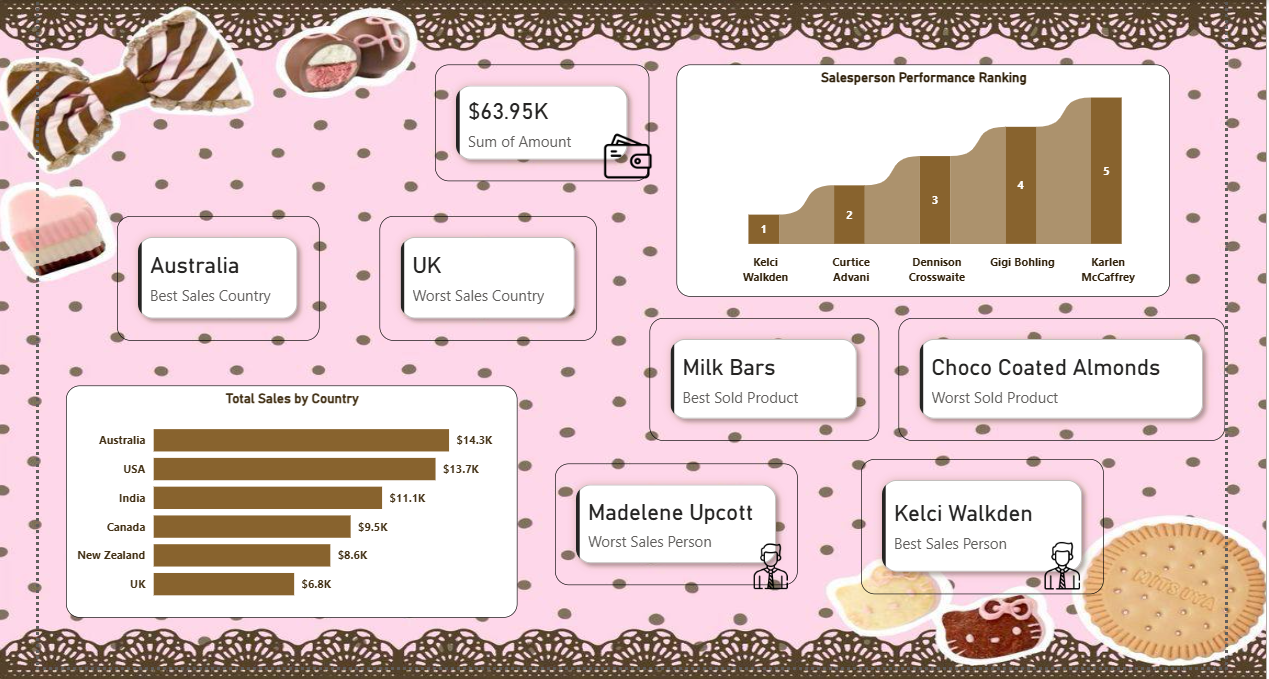

The dashboard page shown, as its layout file describes it:
{"tool":"powerbi","page":{"name":"Страница 1","canvas":[1280,720],"ordinal":0},"visuals":[{"type":"cardVisual","fields":{"Data":["Sum(Chocolate Sales.Amount)"]},"box":[427.5,69.6,231.5,126.3],"z":0},{"type":"cardVisual","fields":{"Data":["Chocolate Sales.Best Sales Person"]},"box":[887.3,495.5,262.3,145.7],"z":1000},{"type":"cardVisual","fields":{"Data":["Chocolate Sales.Worst Sales Person"]},"box":[557,500.3,262.3,131.2],"z":2000},{"type":"cardVisual","fields":{"Data":["Chocolate Sales.Best Sales Country"]},"box":[84.2,233.2,218.6,134.4],"z":3000},{"type":"cardVisual","fields":{"Data":["Chocolate Sales.Worst Sales Country"]},"box":[367.6,233.2,234.8,134.4],"z":4000},{"type":"cardVisual","fields":{"Data":["Chocolate Sales.Best Sold Product"]},"box":[659,343.3,247.7,132.8],"z":5000},{"type":"cardVisual","fields":{"Data":["Chocolate Sales.Worst Sold Product"]},"box":[927.8,343.3,353,132.8],"z":6000},{"type":"image","box":[1059,579.7,90.7,61.5],"z":7000},{"type":"image","box":[743.2,581.3,93.9,59.9],"z":8000},{"type":"ribbonChart","title":"Salesperson Performance Ranking","fields":{"Category":["Chocolate Sales.Sales Person"],"Y":["Chocolate Sales.Sales Person Ranking"]},"box":[688.2,69.6,532.7,251],"z":9000},{"type":"barChart","title":"Total Sales by Country","fields":{"Category":["Chocolate Sales.Country"],"Y":["Sum(Chocolate Sales.Amount)"]},"box":[29.1,416.1,487.4,251],"z":10000},{"type":"image","box":[602.4,131.2,66.4,74.5],"z":11000}]}

Visuals, with their boxes on the page's 1280x720 design canvas (x1, y1, x2, y2). These are canvas units, not pixel positions in the 1269x679 screenshot, which may show the page scaled, cropped or inside an application window:
cardVisual - Sum(Chocolate Sales.Amount): 428/70/659/196
cardVisual - Chocolate Sales.Best Sales Person: 887/496/1150/641
cardVisual - Chocolate Sales.Worst Sales Person: 557/500/819/632
cardVisual - Chocolate Sales.Best Sales Country: 84/233/303/368
cardVisual - Chocolate Sales.Worst Sales Country: 368/233/602/368
cardVisual - Chocolate Sales.Best Sold Product: 659/343/907/476
cardVisual - Chocolate Sales.Worst Sold Product: 928/343/1281/476
image: 1059/580/1150/641
image: 743/581/837/641
"Salesperson Performance Ranking" ribbonChart: 688/70/1221/321
"Total Sales by Country" barChart: 29/416/516/667
image: 602/131/669/206
